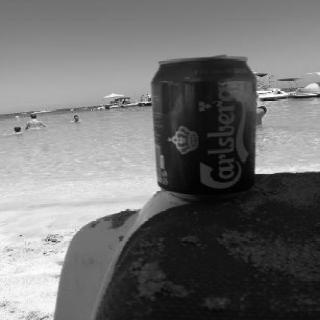alumunium_can: (150, 53, 260, 202)
